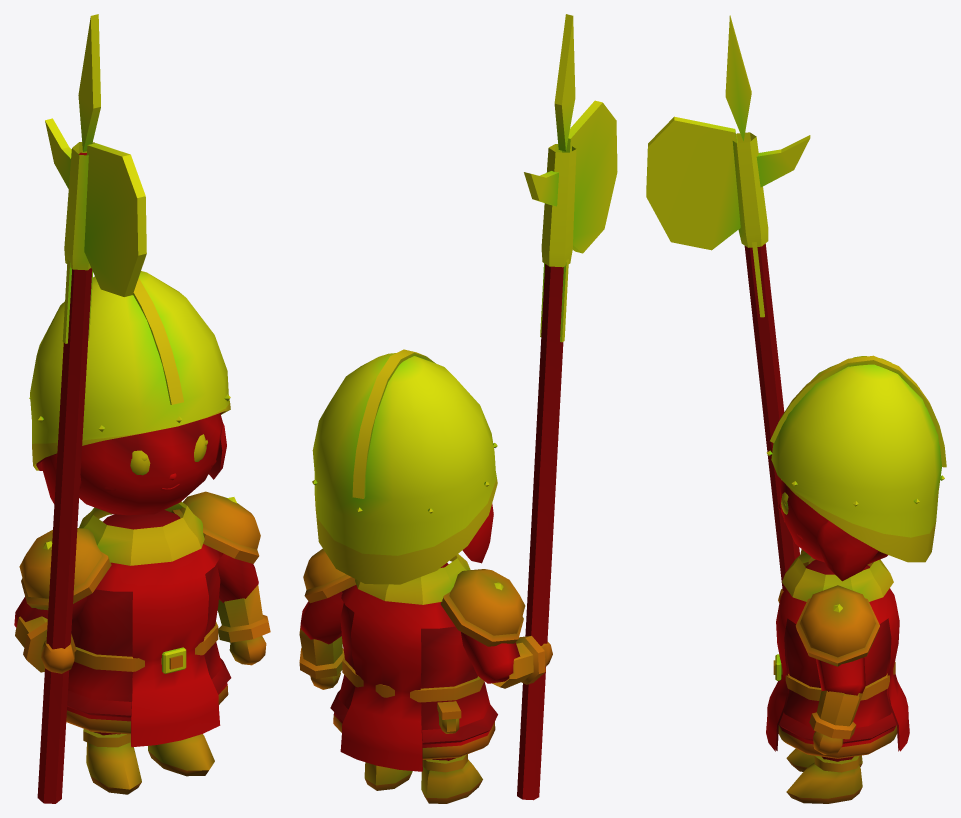
File: Halberdier.glb
3 views of the same model, side by side, from view 1: azimuth 30°, elevation 25°; view 2: azimuth 150°, elevation 25°; view 3: azimuth 270°, elevation 25° (orthographic). The views are drawn at different scales.
Parts seen in each view (by area): view 1: Halberdier; view 2: Halberdier; view 3: Halberdier.
Part boxes in pixels (box(x1,y1,x2,y2)): Halberdier: box(14, 14, 270, 803); Halberdier: box(299, 14, 617, 803); Halberdier: box(646, 15, 946, 803).
Size of the model in its own units: 0.5315 by 1.64 by 0.6216.
